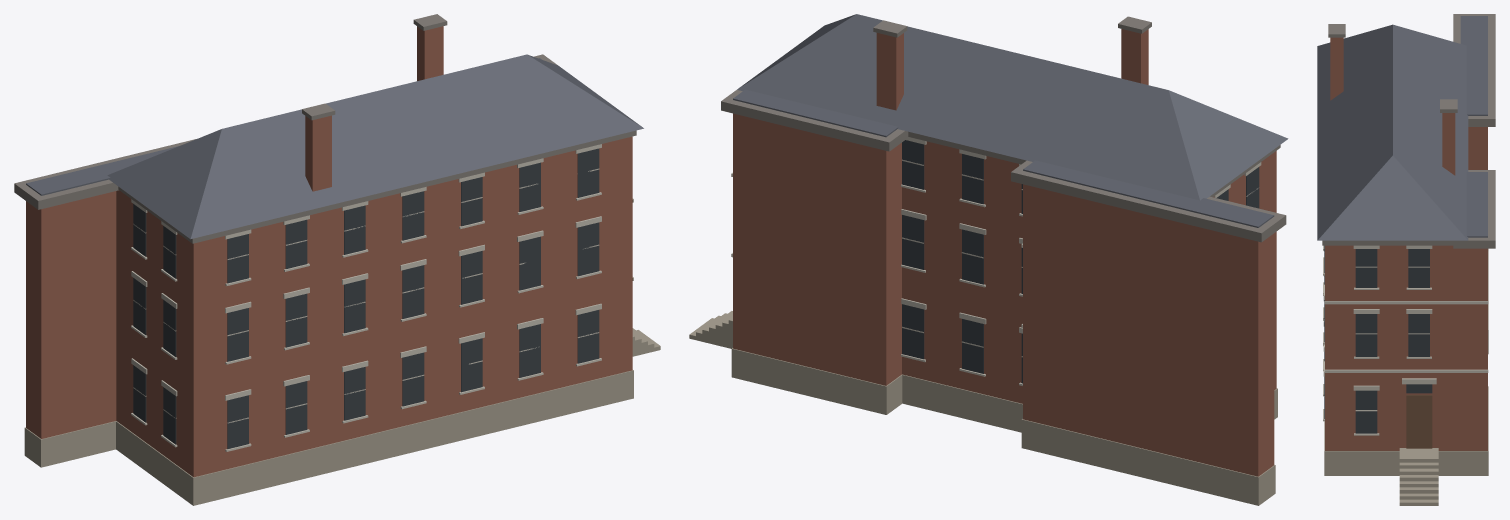
The model's file is house_1604_prairie__draft_1904.glb.
The picture shows the model from 3 angles, left to right: view 1: azimuth 30°, elevation 25°; view 2: azimuth 150°, elevation 25°; view 3: azimuth 270°, elevation 25°; orthographic projection. The views are drawn at different scales.
Parts seen in each view (by area): view 1: house_1604_prairie__draft_1904; view 2: house_1604_prairie__draft_1904; view 3: house_1604_prairie__draft_1904.
Boxes of the visible parts, x1=… form: house_1604_prairie__draft_1904: x1=14, y1=14, x2=660, y2=505; house_1604_prairie__draft_1904: x1=689, y1=14, x2=1288, y2=505; house_1604_prairie__draft_1904: x1=1317, y1=14, x2=1495, y2=505.
Size of the model in its own units: 27.65 by 15.99 by 8.2.
